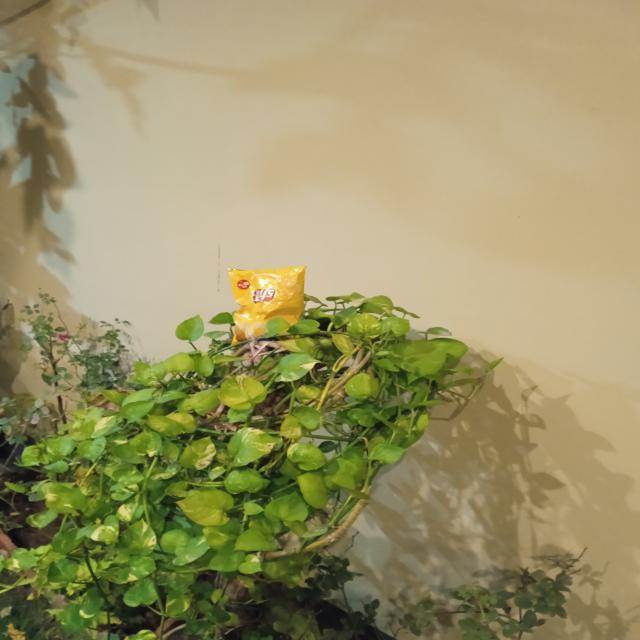Plastic: (234, 266, 308, 339)
